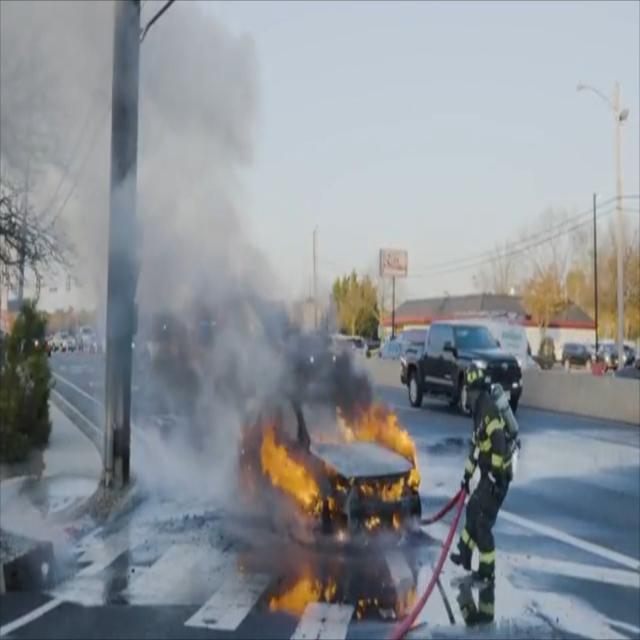fire: (232, 374, 417, 540), (272, 569, 407, 615)
